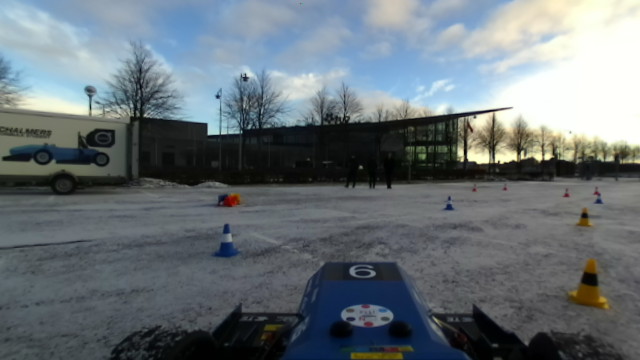blue: (209, 223, 242, 259), (443, 196, 454, 211), (592, 192, 604, 205)
yellow: (564, 257, 607, 310), (572, 204, 591, 228)
